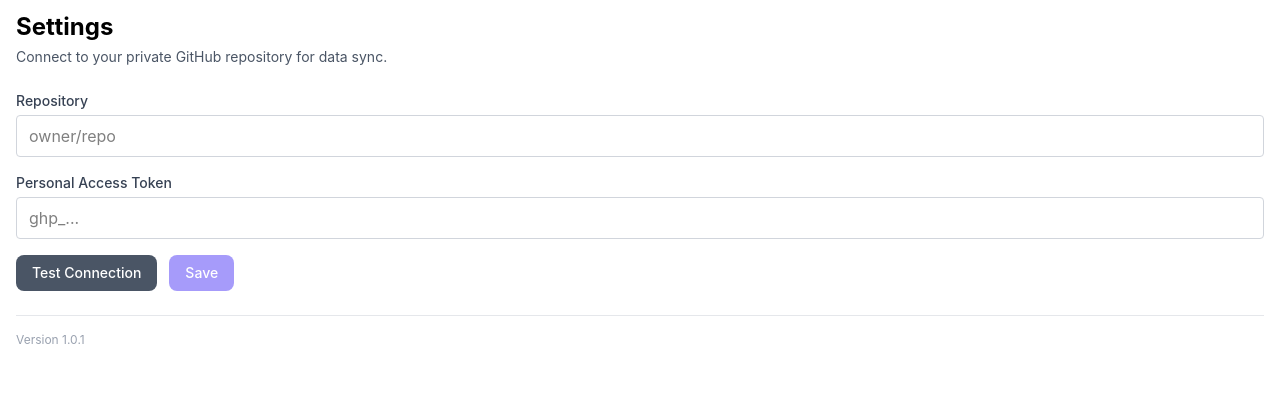
Test: Settings › validation › should show error when repository is empty
Click the button with test id "test-connection" at (87, 273), box [16,255,157,291]
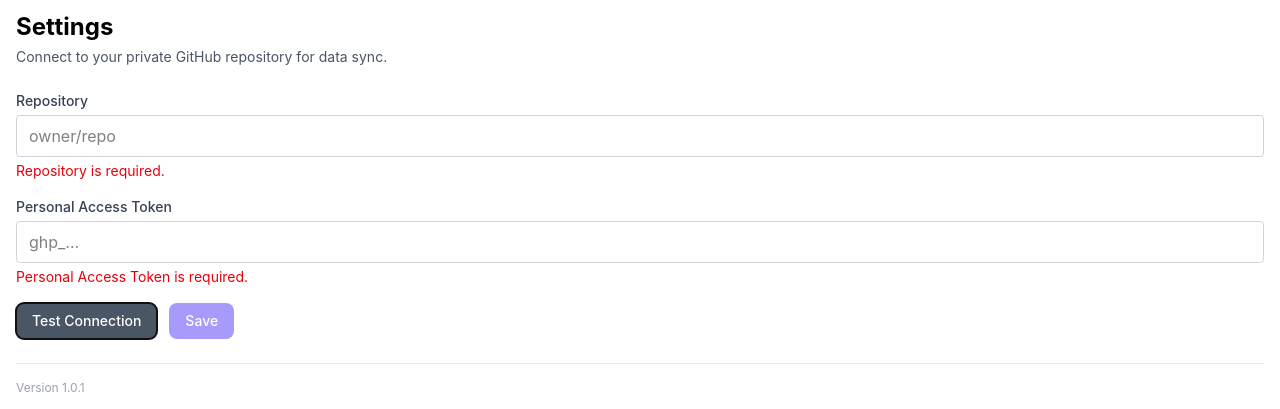
Check: the text with test id "error-repo" reads "Repository is required.", box [16,162,165,179]
